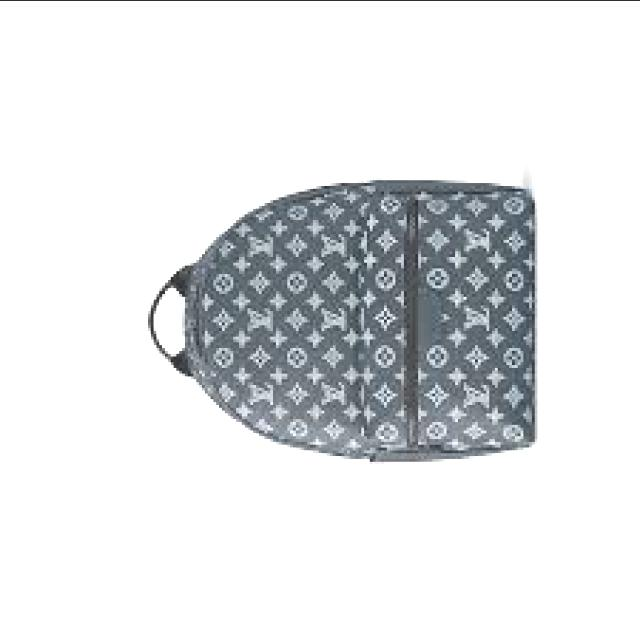backpack: (146, 181, 536, 465)
